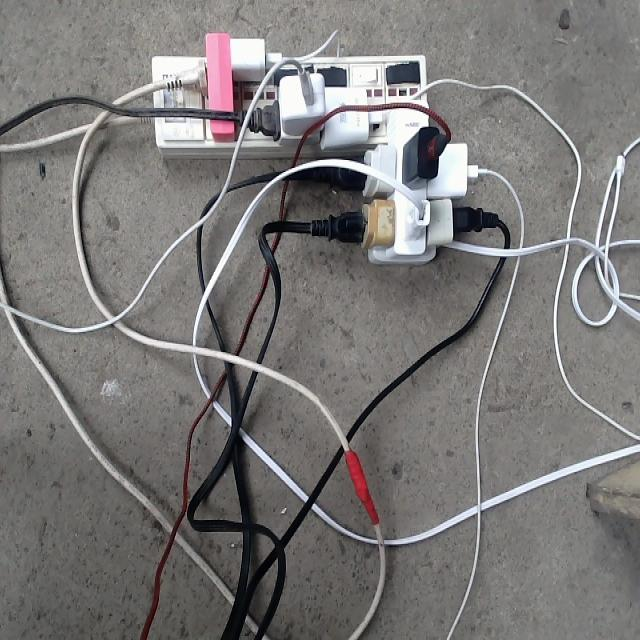-: (148, 29, 501, 260)
